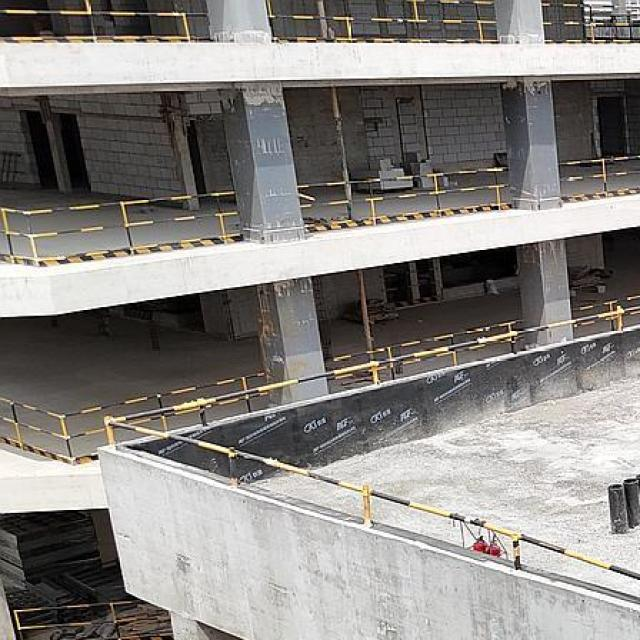edge_guardrail: (101, 304, 640, 580), (0, 370, 269, 466), (0, 191, 243, 266), (298, 167, 512, 230), (324, 319, 526, 380), (266, 0, 500, 44), (0, 0, 211, 44), (13, 598, 173, 640), (541, 3, 640, 44), (557, 156, 640, 200), (571, 295, 640, 331)
